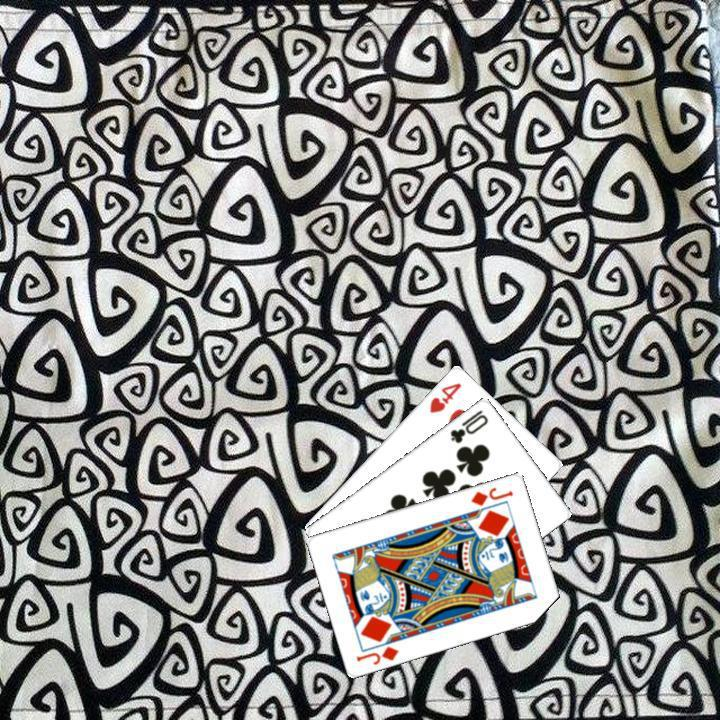10: (445, 405, 490, 445)
4: (425, 378, 463, 415)
J: (466, 482, 515, 508), (352, 641, 401, 667)
